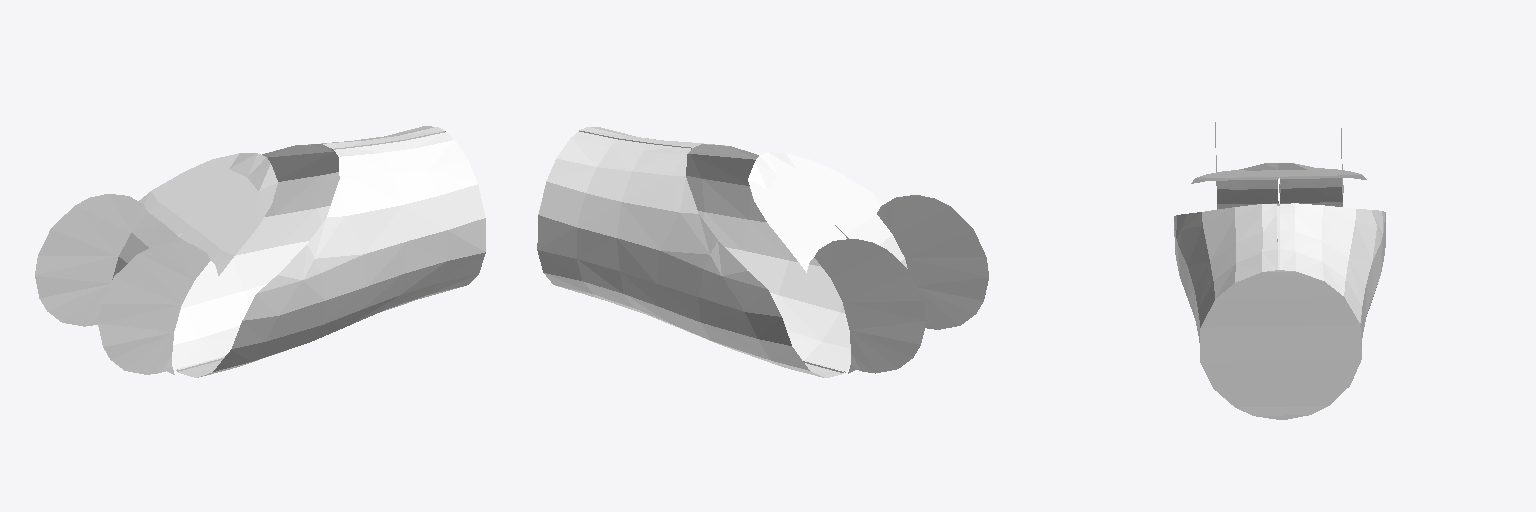
The model's file is RElbowRoll_1.obj.
3 views of the same model, side by side, from view 1: azimuth 30°, elevation 25°; view 2: azimuth 150°, elevation 25°; view 3: azimuth 270°, elevation 25° (orthographic).
Bounding box in the file's own units: 0.1499 × 0.0734 × 0.0725.